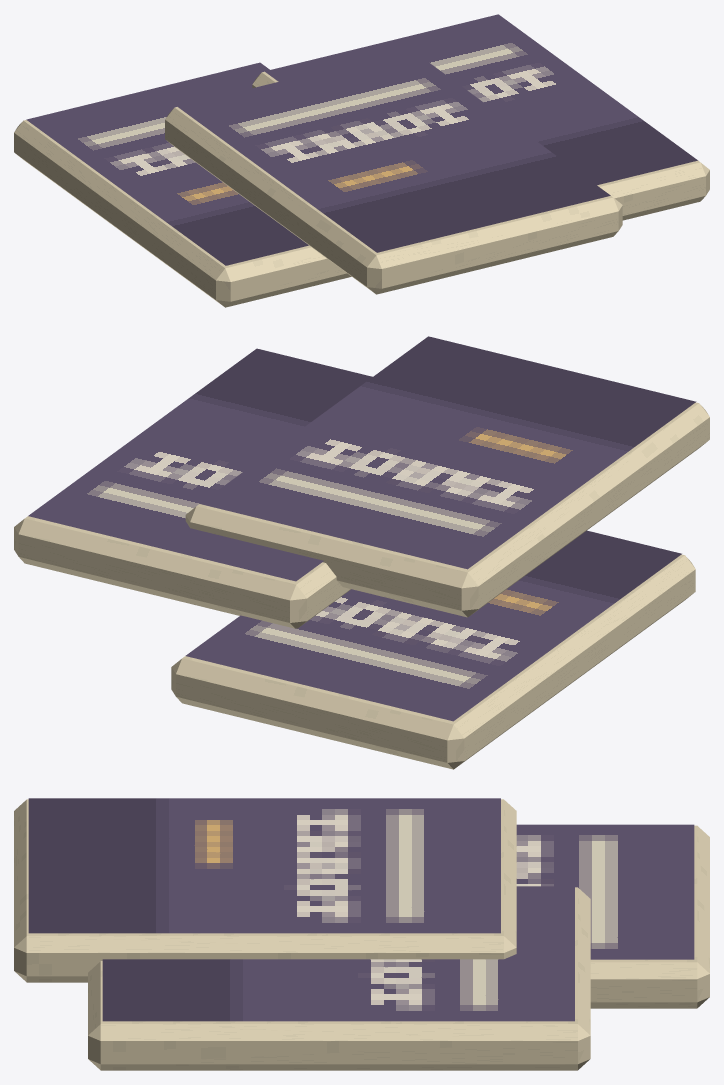
The model's file is deck_of_tarot_cards.glb.
3 views of the same model, one above another, from view 1: azimuth 30°, elevation 25°; view 2: azimuth 150°, elevation 25°; view 3: azimuth 270°, elevation 25° (orthographic). The views are drawn at different scales.
Parts seen in each view (by area): view 1: block_original tarot card print (×3), block_glossy cardstock stack (×3); view 2: block_original tarot card print (×3), block_glossy cardstock stack (×3); view 3: block_original tarot card print (×3), block_glossy cardstock stack (×3).
Boxes of the visible parts, x1,y1,x2,y2 form: block_original tarot card print (×3): (26, 14, 697, 265); block_glossy cardstock stack (×3): (14, 71, 709, 307); block_original tarot card print (×3): (28, 336, 696, 721); block_glossy cardstock stack (×3): (14, 402, 709, 769); block_original tarot card print (×3): (28, 798, 694, 1021); block_glossy cardstock stack (×3): (14, 799, 709, 1070).
Size of the model in its own units: 0.0771 by 0.0161 by 0.0887.
1 material, 1 textured.
